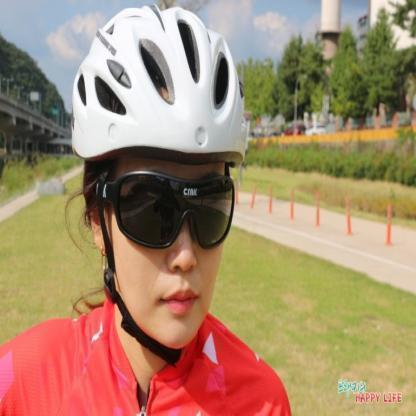no-helmet: (71, 0, 250, 162)
no-vest: (14, 300, 270, 416)
